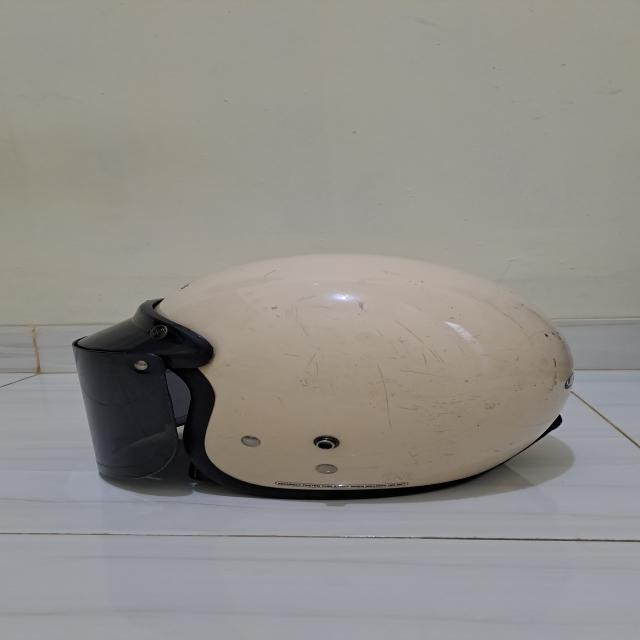Helm: (64, 247, 575, 502)
